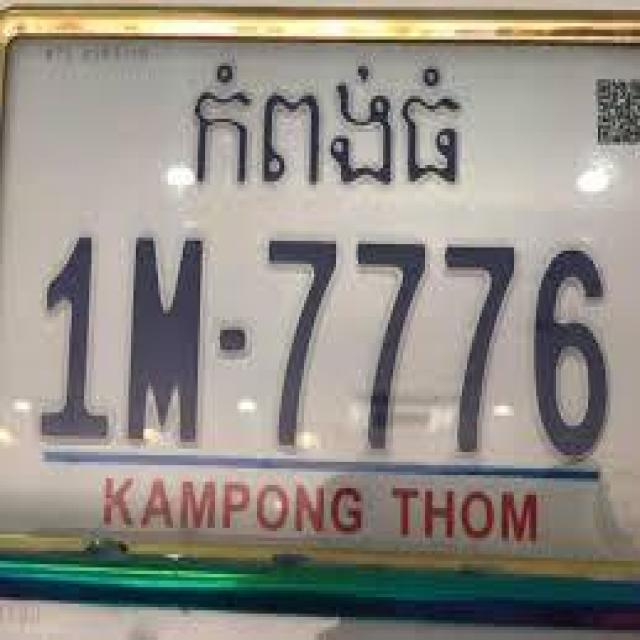Kampong_Thom: (198, 53, 464, 195)
